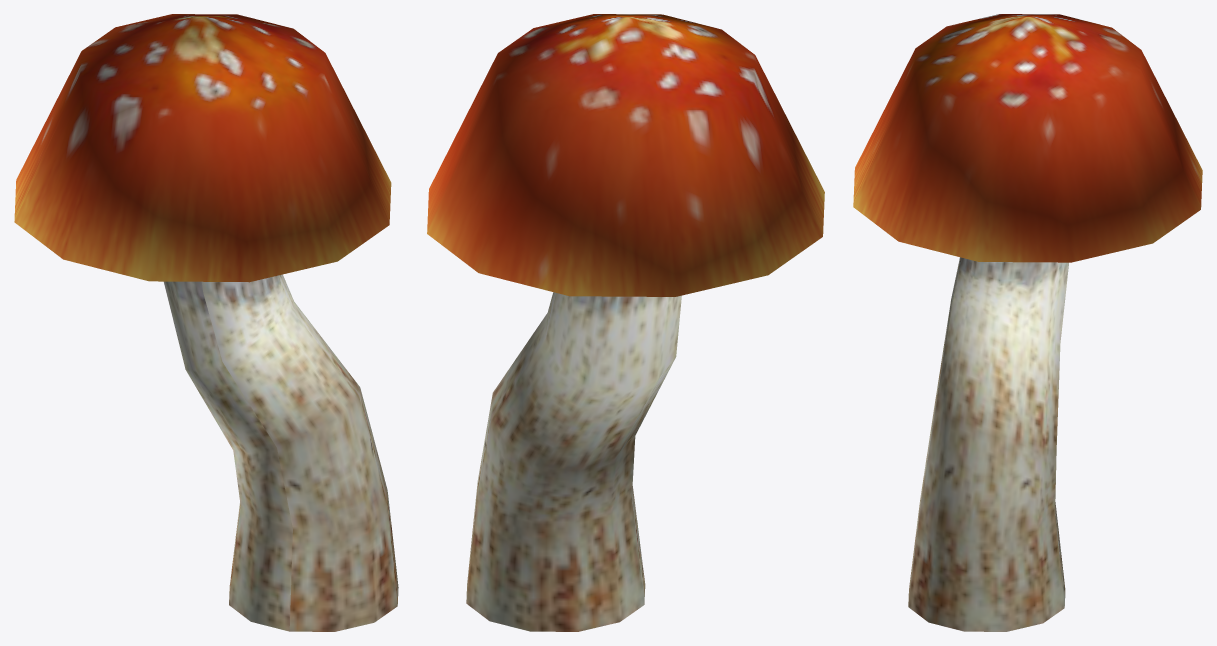
The model's file is Shroom1-1.gltf.
3 views of the same model, side by side, from view 1: azimuth 30°, elevation 25°; view 2: azimuth 150°, elevation 25°; view 3: azimuth 270°, elevation 25° (orthographic). The views are drawn at different scales.
Parts seen in each view (by area): view 1: Shroom1-1; view 2: Shroom1-1; view 3: Shroom1-1.
Part boxes in pixels (<box>): Shroom1-1: <box>14,14,398,631</box>; Shroom1-1: <box>427,14,824,631</box>; Shroom1-1: <box>853,14,1202,631</box>.
Size of the model in its own units: 1.53 by 2.62 by 1.53.
Materials: 1 (1 with a texture image).
